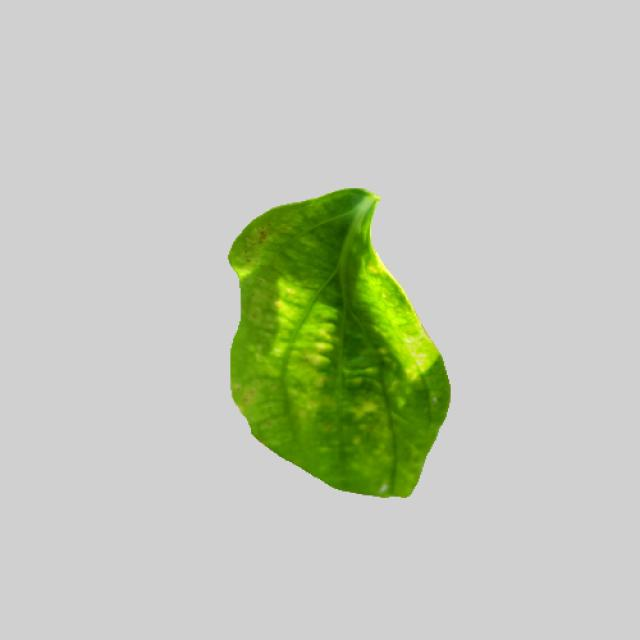yellow-mottle-virus: (225, 188, 447, 497)
